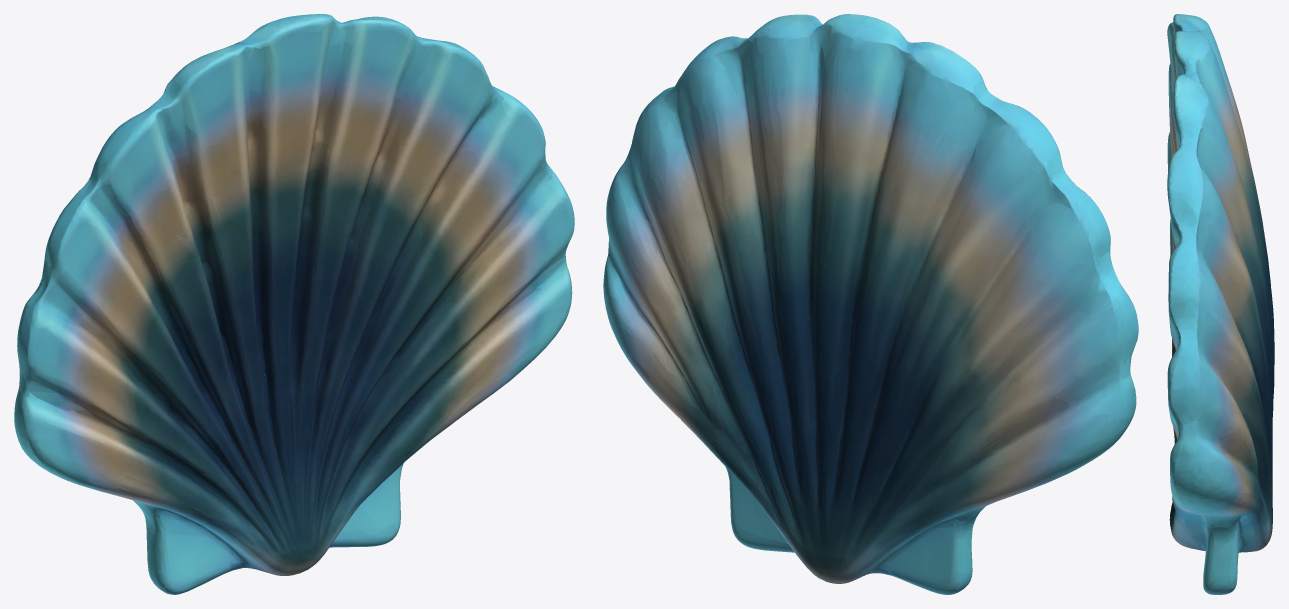
Rendered from puka.glb.
The picture shows the model from 3 angles, left to right: view 1: azimuth 30°, elevation 25°; view 2: azimuth 150°, elevation 25°; view 3: azimuth 270°, elevation 25°; orthographic projection. The views are drawn at different scales.
Visible parts, largest first — view 1: Mesh_0; view 2: Mesh_0; view 3: Mesh_0.
Part boxes in pixels (left/top/right/bottom): Mesh_0: left=14, top=14, right=574, bottom=594; Mesh_0: left=603, top=14, right=1138, bottom=594; Mesh_0: left=1167, top=14, right=1274, bottom=594.
Size of the model in its own units: 1.9 by 1.86 by 0.3531.
Materials: 1 (1 with a texture image).
